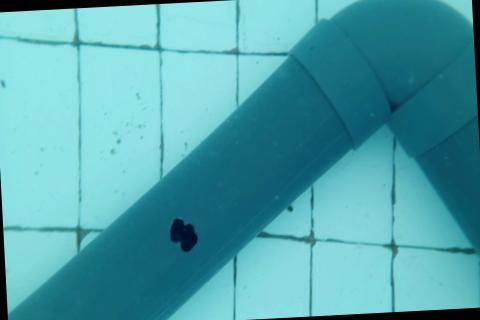kebocoran: (168, 215, 200, 254)
